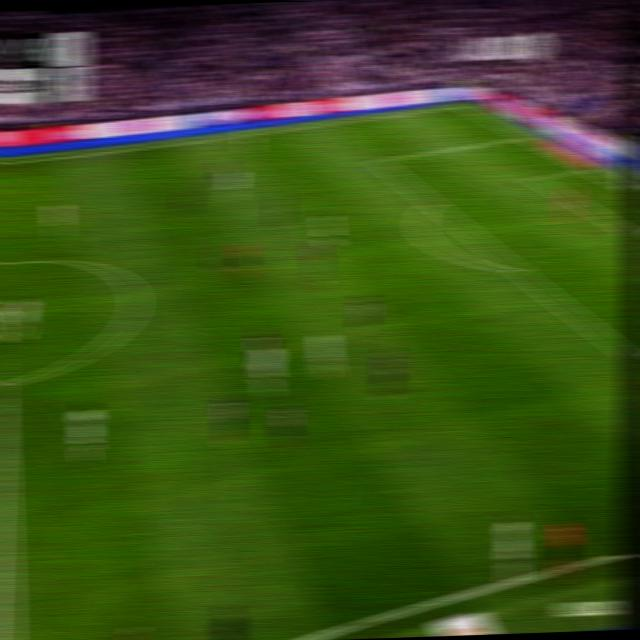bigarea_bottom_inner: (618, 343, 635, 367)
bigarea_top_inner: (368, 152, 387, 166)
bigarea_top_outter: (514, 130, 533, 142)
bottom_arc_area_intersection: (506, 260, 526, 278)
corner: (453, 99, 472, 110)
halfcircle_bottom: (0, 370, 11, 399)
smallarea_top_inner: (527, 172, 543, 182)
top_arc_area_intersection: (422, 194, 441, 210)
